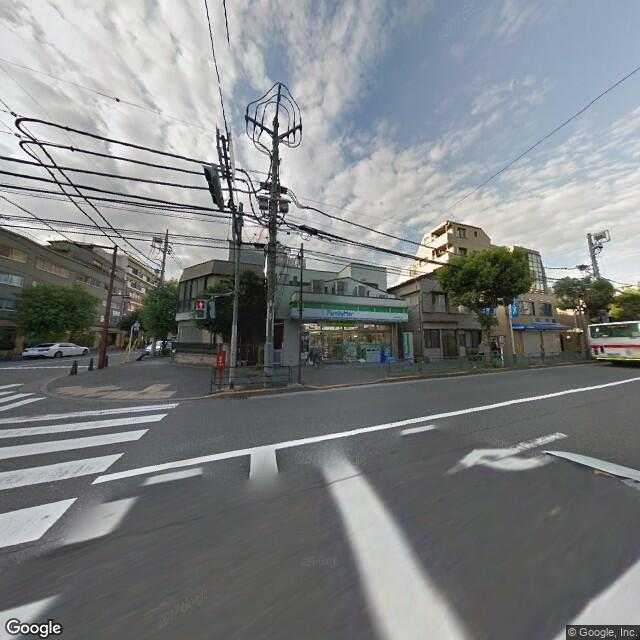family_mart: (289, 300, 410, 327)
